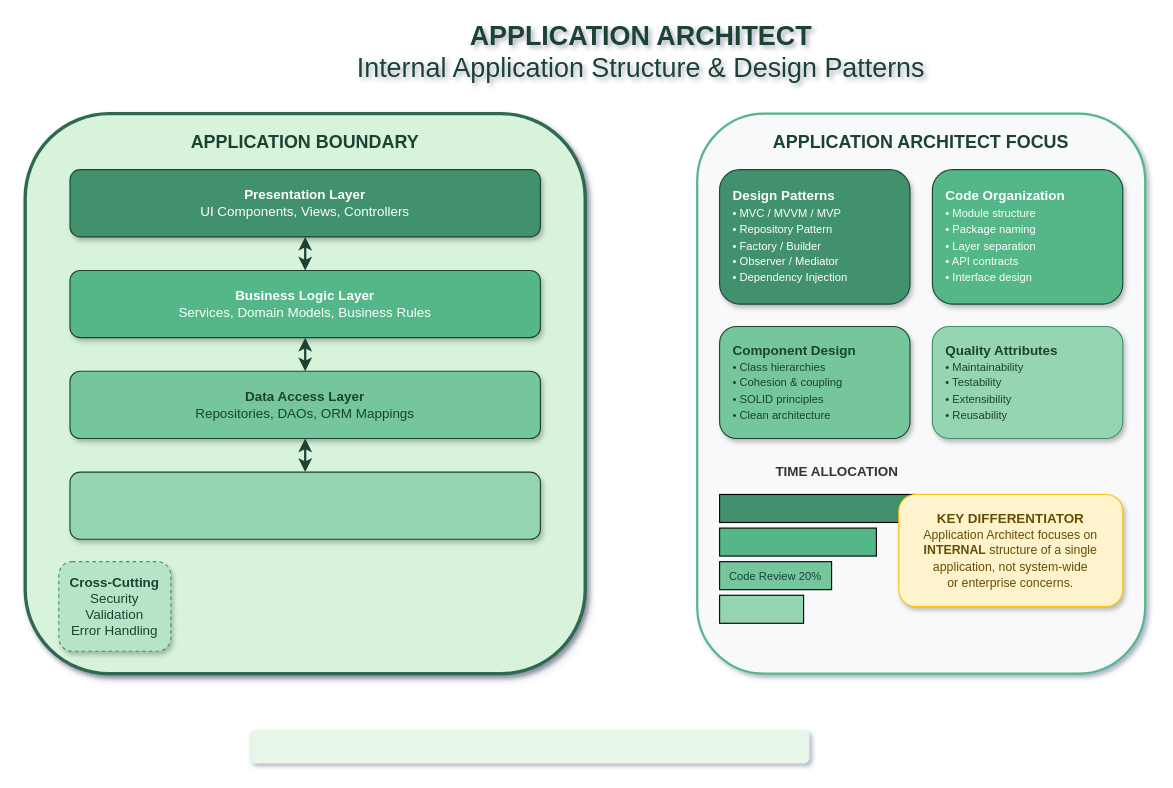
Some shapes in this 1173 by 788 pixel diagram are drawn without their labels. The shapes that lost their labels are listed below. From the top down, each one's centre as x and y in pixels, then its label:
[305,506]: Infrastructure Layer Logging, Caching, External Services
[817,507]: Design & Architecture 35%
[797,541]: Coding 25-35%
[761,608]: Meetings 15%
[529,746]: Scope: Single Application | Coding: 25-35% | Reports to: Tech Lead/Director
